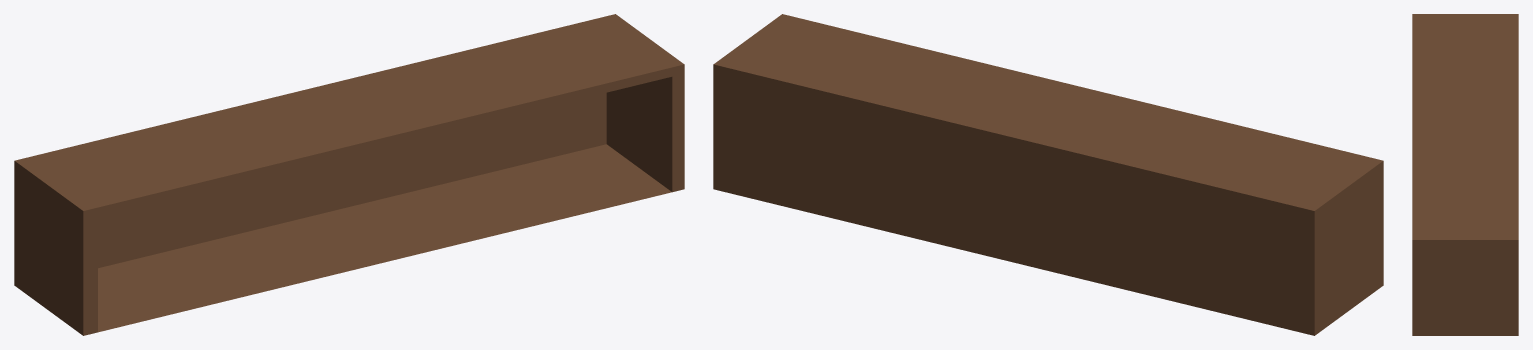
Rendered from longtable.fbx.
The picture shows the model from 3 angles, left to right: view 1: azimuth 30°, elevation 25°; view 2: azimuth 150°, elevation 25°; view 3: azimuth 270°, elevation 25°; orthographic projection. The views are drawn at different scales.
Parts seen in each view (by area): view 1: Cube; view 2: Cube; view 3: Cube.
Boxes of the visible parts, x1,y1,x2,y2 form: Cube: [14, 14, 684, 335]; Cube: [713, 14, 1383, 335]; Cube: [1412, 14, 1518, 335].
Size of the model in its own units: 1008 by 200 by 200.
